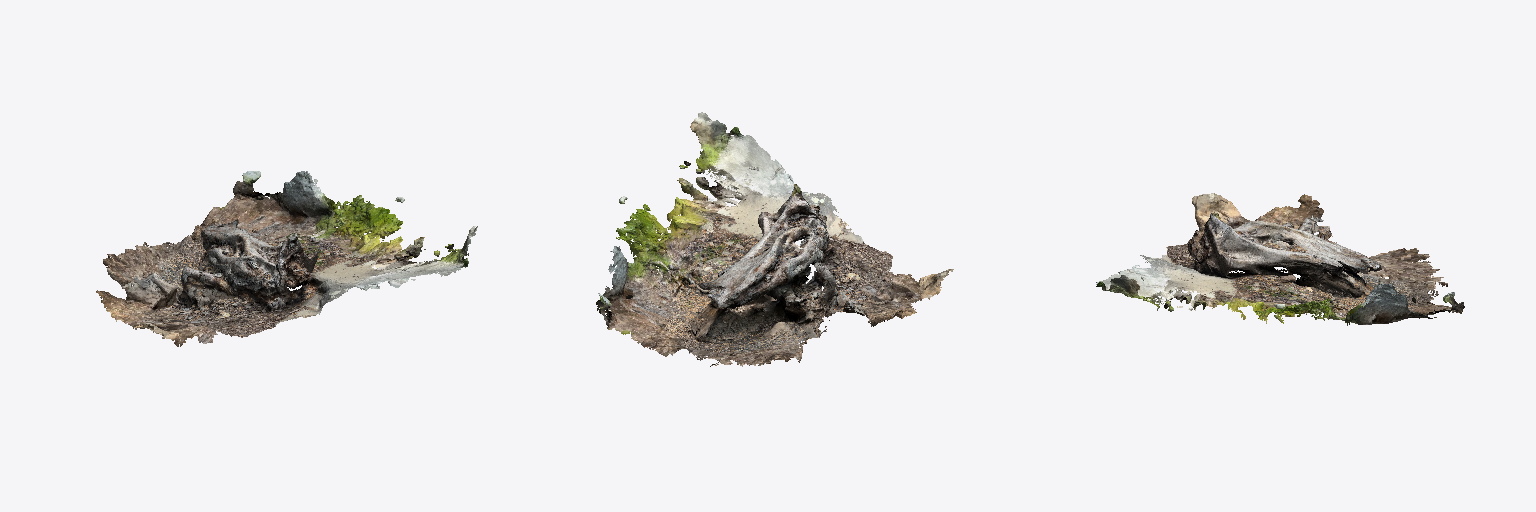
3 renders of one model, left to right at view 1: azimuth 30°, elevation 25°; view 2: azimuth 150°, elevation 25°; view 3: azimuth 270°, elevation 25°, orthographic.
Parts seen in each view (by area): view 1: mesh_0; view 2: mesh_0; view 3: mesh_0.
Boxes of the visible parts, x1,y1,x2,y2 form: mesh_0: [96, 171, 477, 346]; mesh_0: [596, 112, 953, 366]; mesh_0: [1096, 193, 1464, 325].
Size of the model in its own units: 7.37 by 2.45 by 7.96.
Materials: 1 (1 with a texture image).